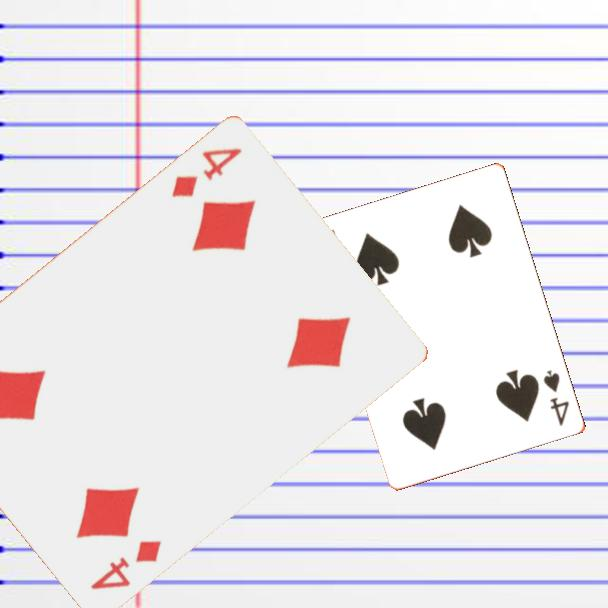d04: (86, 537, 164, 594), (168, 145, 245, 201)
s04: (540, 366, 573, 429)
